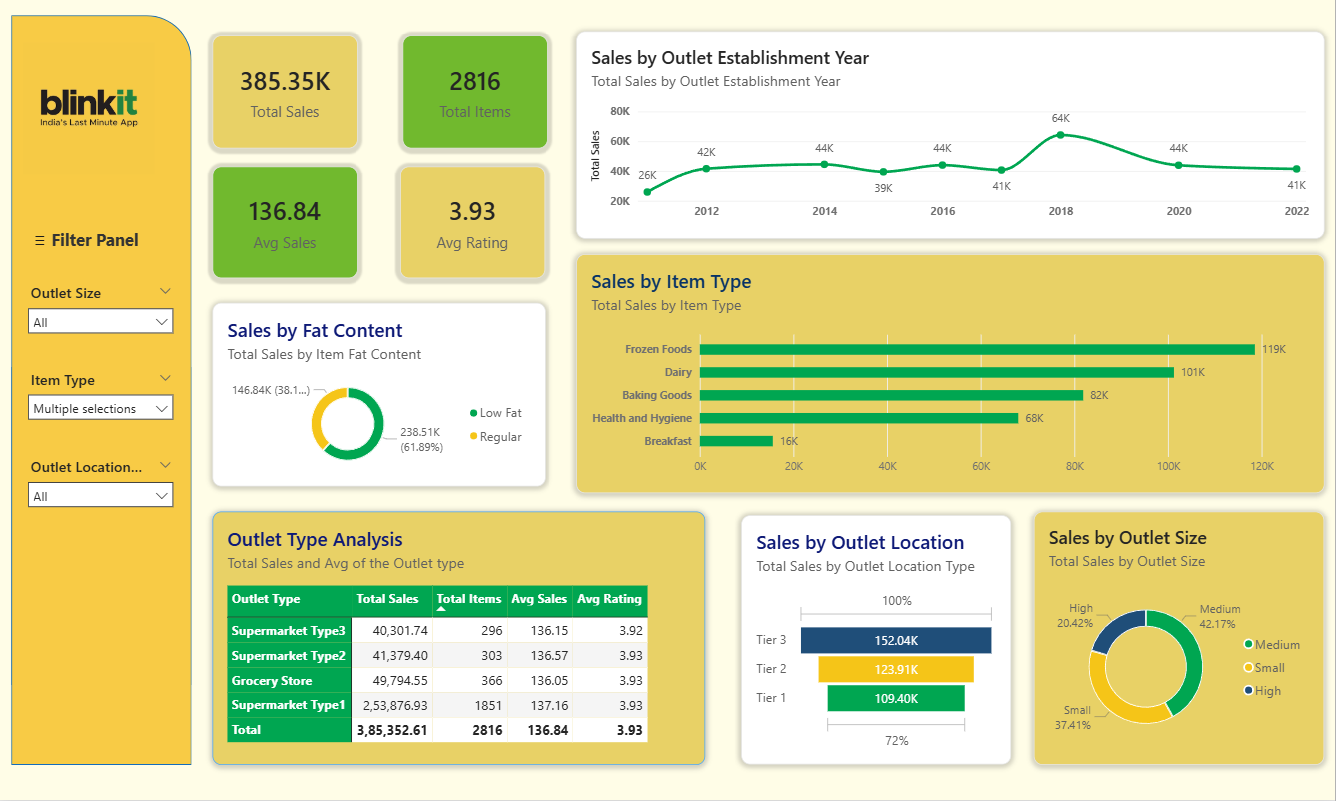

Layout of this report page (visuals, bound fields, positions):
{"tool":"powerbi","page":{"name":"Page 1","canvas":[1500,900],"ordinal":0},"visuals":[{"type":"card","fields":{"Values":["Key Measures.Total Sales"]},"box":[239,41.2,163.2,126.9],"z":0},{"type":"card","fields":{"Values":["Key Measures.Avg Sales"]},"box":[239,187.9,163.2,125.3],"z":1000},{"type":"card","fields":{"Values":["Key Measures.Avg Rating"]},"box":[450,187.9,163.2,125.3],"z":2000},{"type":"card","fields":{"Values":["Key Measures.Total Items"]},"box":[451.6,41.2,163.2,126.9],"z":3000},{"type":"donutChart","title":" Sales by Fat Content","fields":{"Category":["BlinkIT-Grocery-Data.Item Fat Content"],"Y":["Key Measures.Total Sales"]},"box":[239,341.2,374.2,206],"z":4000},{"type":"clusteredBarChart","title":"Sales by Item Type","fields":{"Category":["BlinkIT-Grocery-Data.Item Type"],"Y":["Key Measures.Total Sales"]},"box":[647.8,286.8,840.7,268.7],"z":5000},{"type":"donutChart","title":"Sales by Outlet Size","fields":{"Category":["BlinkIT-Grocery-Data.Outlet Size"],"Y":["Key Measures.Total Sales"]},"box":[1162.1,575.3,326.4,285.2],"z":6000},{"type":"lineChart","title":"Sales by Outlet Establishment Year","fields":{"Category":["BlinkIT-Grocery-Data.Outlet Establishment Year"],"Y":["Key Measures.Total Sales"]},"box":[647.8,36.3,840.7,232.4],"z":7000},{"type":"pivotTable","title":"Outlet Type Analysis","fields":{"Rows":["BlinkIT-Grocery-Data.Outlet Type"],"Values":["Key Measures.Total Sales","Key Measures.Total Items","Key Measures.Avg Sales","Key Measures.Avg Rating"]},"box":[239,575.3,553.8,285.2],"z":8000},{"type":"funnel","title":" Sales by Outlet Location","fields":{"Category":["BlinkIT-Grocery-Data.Outlet Location Type"],"Y":["Key Measures.Total Sales"]},"box":[832.4,580.2,303.3,280.2],"z":12000},{"type":"shape","box":[13.2,18.1,202.7,842.3],"z":12750},{"type":"slicer","fields":{"Values":["BlinkIT-Grocery-Data.Outlet Location Type"]},"box":[26.4,514.3,173.1,65.9],"z":12812},{"type":"slicer","fields":{"Values":["BlinkIT-Grocery-Data.Outlet Size"]},"box":[26.4,318.1,173.1,64.3],"z":12875},{"type":"slicer","fields":{"Values":["BlinkIT-Grocery-Data.Item Type"]},"box":[26.4,415.4,173.1,67.6],"z":13000},{"type":"textbox","box":[25.9,251.2,160.1,35.7],"z":15500},{"type":"image","box":[25.6,42,148.6,161.9],"z":16501}]}

Visuals, with their boxes in screenshot pixels (x1, y1, x2, y2), scaled from the page's 1500x900 canvas onto the 1336x801 screenshot:
card - Key Measures.Total Sales: box=[213, 37, 358, 150]
card - Key Measures.Avg Sales: box=[213, 167, 358, 279]
card - Key Measures.Avg Rating: box=[401, 167, 546, 279]
card - Key Measures.Total Items: box=[402, 37, 548, 150]
" Sales by Fat Content" donutChart: box=[213, 304, 546, 487]
"Sales by Item Type" clusteredBarChart: box=[577, 255, 1326, 494]
"Sales by Outlet Size" donutChart: box=[1035, 512, 1326, 766]
"Sales by Outlet Establishment Year" lineChart: box=[577, 32, 1326, 239]
"Outlet Type Analysis" pivotTable: box=[213, 512, 706, 766]
" Sales by Outlet Location" funnel: box=[741, 516, 1012, 766]
shape: box=[12, 16, 192, 766]
slicer - BlinkIT-Grocery-Data.Outlet Location Type: box=[24, 458, 178, 516]
slicer - BlinkIT-Grocery-Data.Outlet Size: box=[24, 283, 178, 340]
slicer - BlinkIT-Grocery-Data.Item Type: box=[24, 370, 178, 430]
textbox: box=[23, 224, 166, 255]
image: box=[23, 37, 155, 181]
